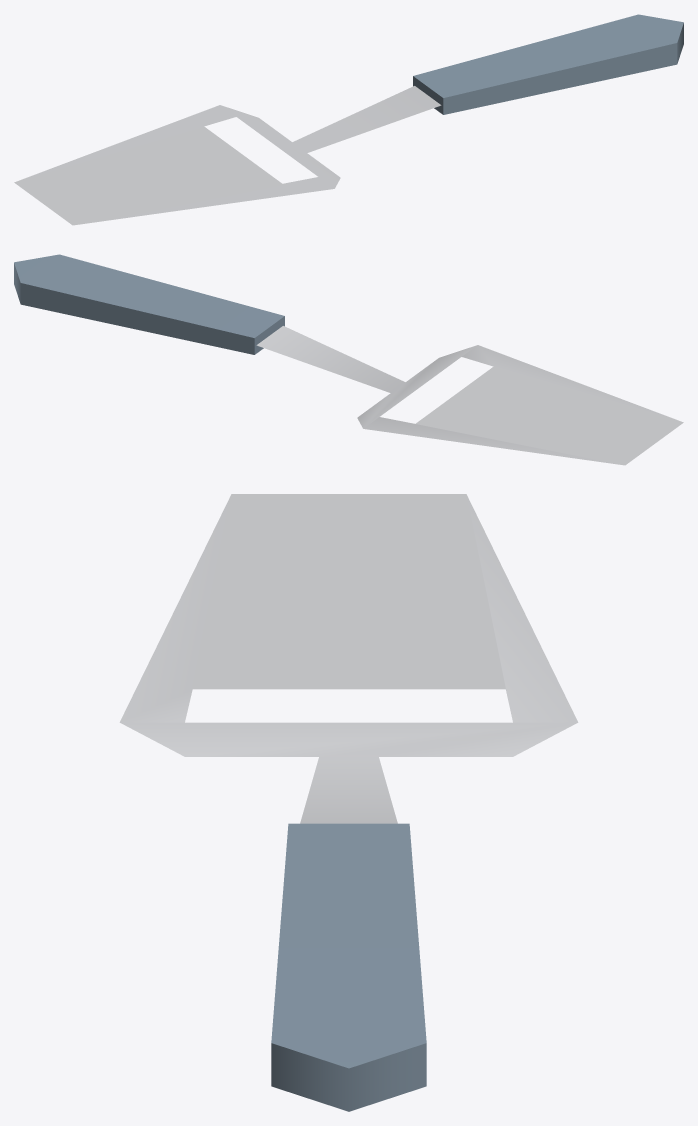
The model's file is Cheese Slicer.glb.
3 views of the same model, one above another, from view 1: azimuth 30°, elevation 25°; view 2: azimuth 150°, elevation 25°; view 3: azimuth 270°, elevation 25° (orthographic). The views are drawn at different scales.
Parts seen in each view (by area): view 1: cheeseSlicer; view 2: cheeseSlicer; view 3: cheeseSlicer.
Part boxes in pixels (<box>): cheeseSlicer: <box>14,14,683,225</box>; cheeseSlicer: <box>14,254,683,465</box>; cheeseSlicer: <box>119,494,578,1111</box>.
Size of the model in its own units: 0.6184 by 0.0292 by 0.1918.
